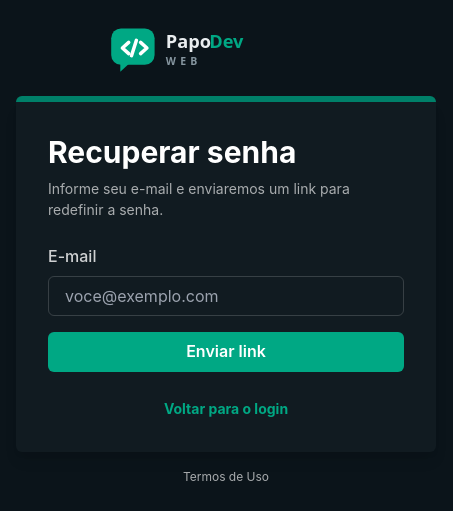
Scenario: ForgotPasswordPage › valida e-mail inválido
The image size is (453, 511).
Type "invalido" into the field labelled "E-mail" at (226, 296), box x1=48 y1=276 x2=404 y2=316
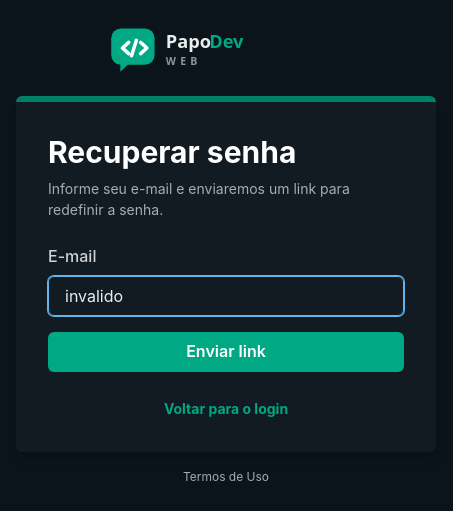
Click the button "Enviar link" at (226, 352), box x1=48 y1=332 x2=404 y2=372
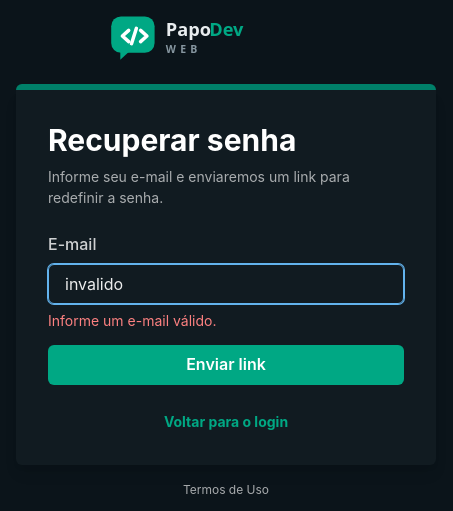
Expected: the text "Informe um e-mail válido." is shown, x1=48 y1=312 x2=216 y2=328
